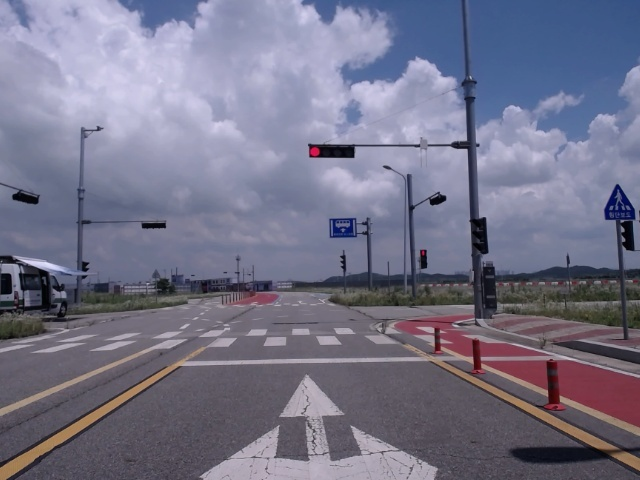red_4: (309, 146, 354, 158)
